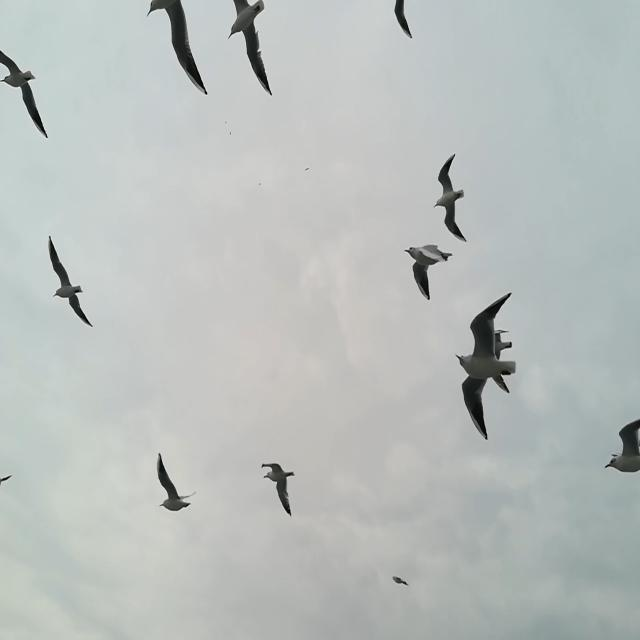bird: (455, 292, 517, 442), (146, 0, 207, 96), (227, 0, 273, 97), (0, 48, 48, 139), (48, 235, 94, 329), (404, 242, 454, 302), (434, 152, 466, 243), (155, 453, 197, 512), (260, 461, 296, 517), (604, 418, 640, 474), (488, 329, 512, 394), (393, 0, 413, 39), (392, 574, 409, 587), (0, 475, 11, 489), (304, 166, 310, 172), (258, 182, 262, 186), (229, 131, 232, 135), (225, 120, 227, 124)
